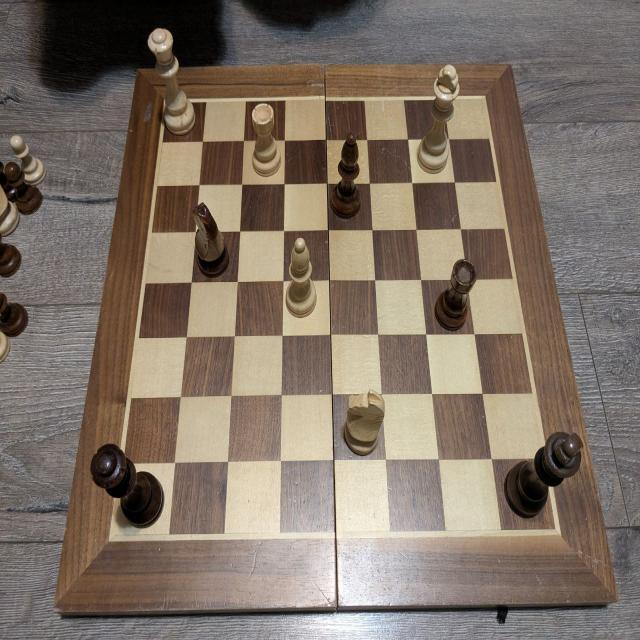black_bishop: (330, 134, 362, 218)
black_king: (504, 430, 584, 518)
black_knight: (192, 202, 228, 276)
black_queen: (91, 442, 164, 526)
black_rook: (435, 258, 475, 333)
white_bishop: (286, 237, 318, 319)
white_king: (417, 64, 459, 172)
white_knight: (344, 390, 385, 456)
white_queen: (147, 26, 195, 136)
white_rook: (252, 101, 282, 177)
